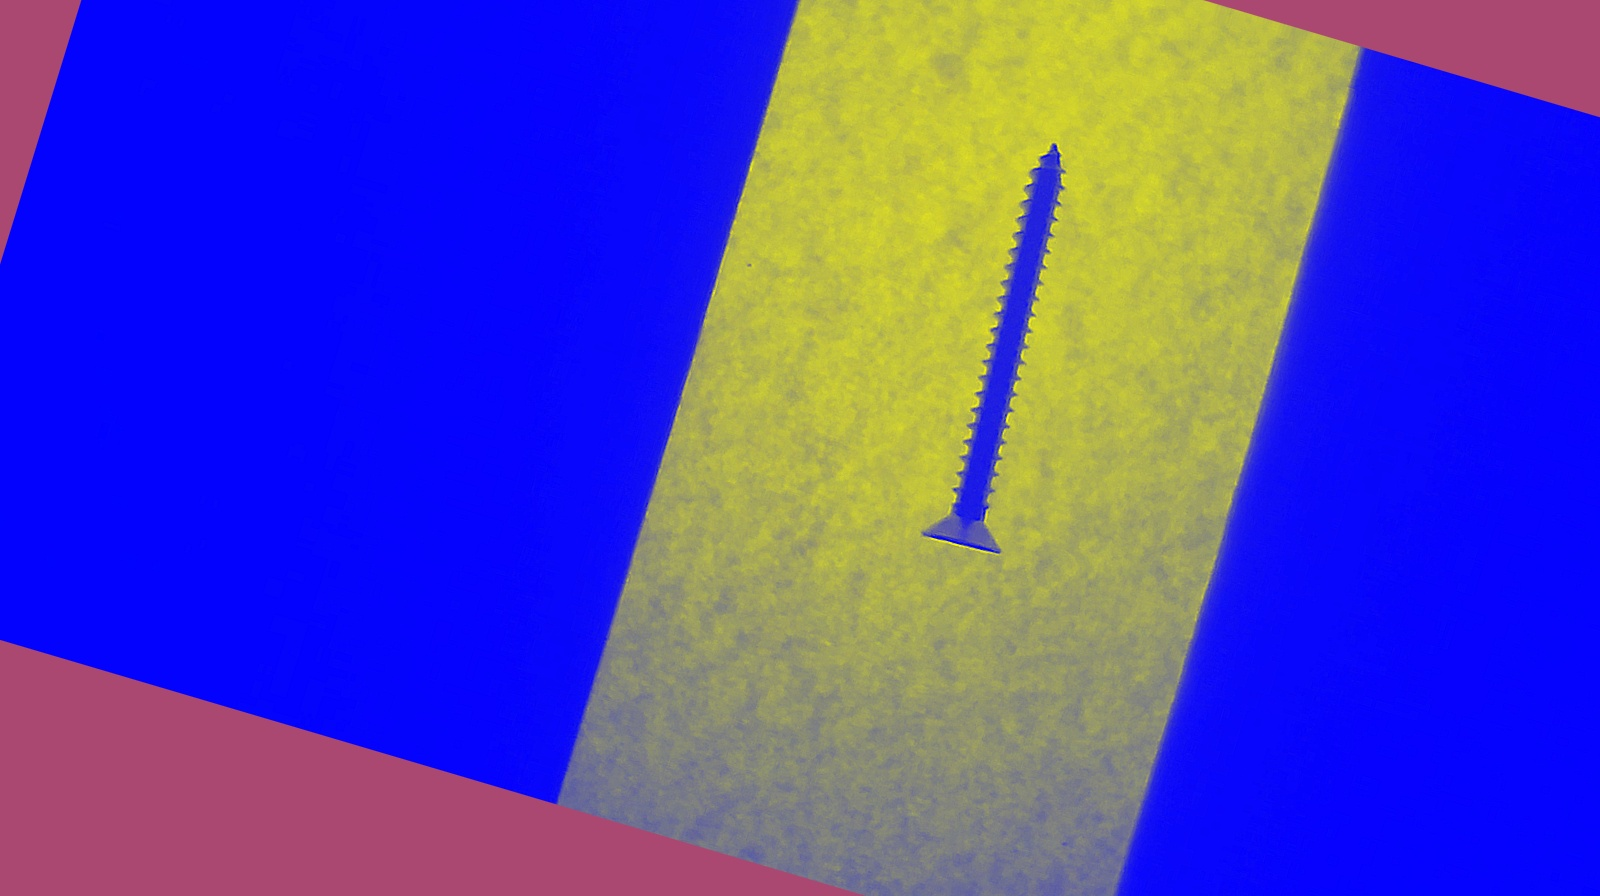S002: (866, 126, 1158, 588)
